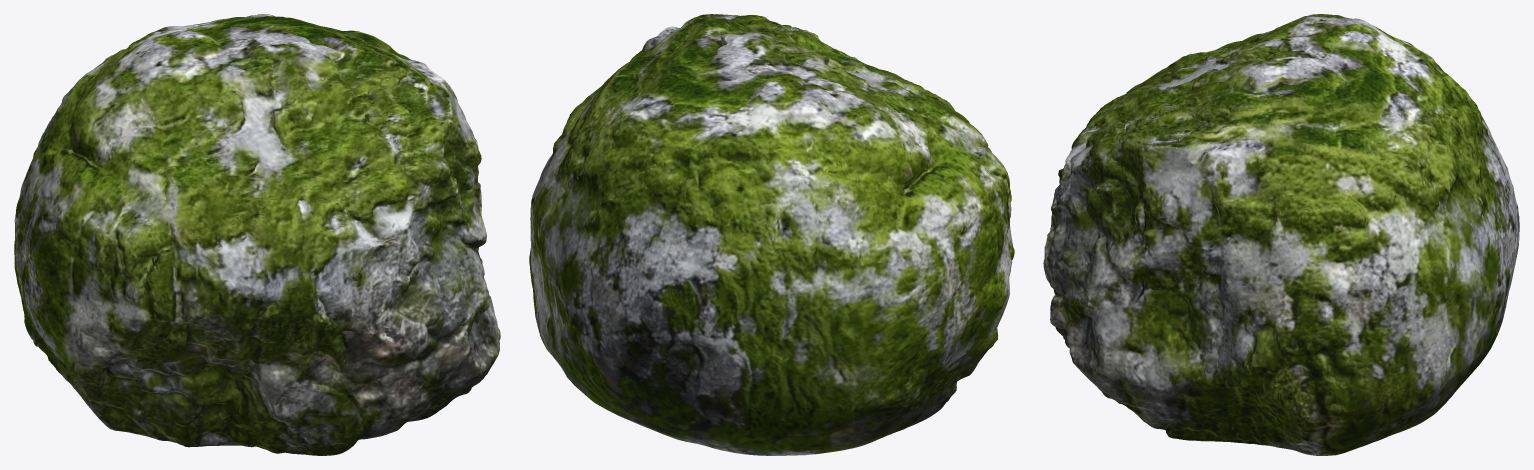
The model's file is moss-rock.glb.
The picture shows the model from 3 angles, left to right: view 1: azimuth 30°, elevation 25°; view 2: azimuth 150°, elevation 25°; view 3: azimuth 270°, elevation 25°; orthographic projection. The views are drawn at different scales.
Visible parts, largest first — view 1: geometry_0; view 2: geometry_0; view 3: geometry_0.
Boxes of the visible parts, left/top/right/bottom form: geometry_0: left=14, top=14, right=500, bottom=455; geometry_0: left=529, top=14, right=1014, bottom=455; geometry_0: left=1043, top=14, right=1519, bottom=455.
Size of the model in its own units: 0.45 by 0.3531 by 0.4498.
Materials: 1 (1 with a texture image).
